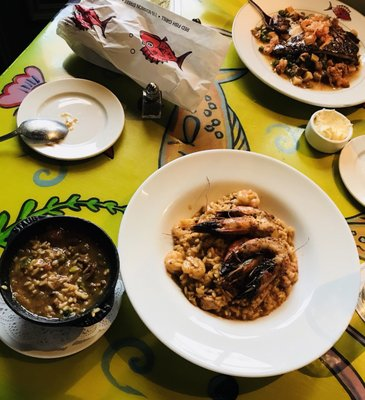pizza: (303, 109, 353, 155)
sushi: (116, 148, 354, 386), (0, 215, 124, 359)
